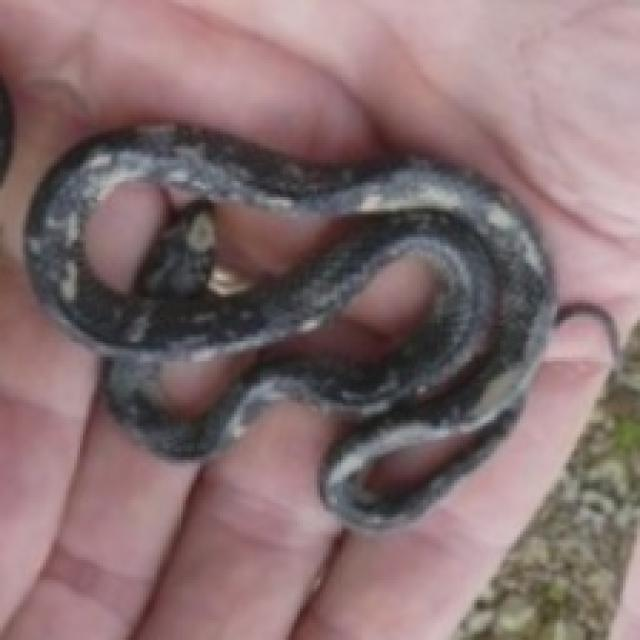gunthers philippine shrub snake: (26, 123, 571, 526), (23, 123, 554, 526)
